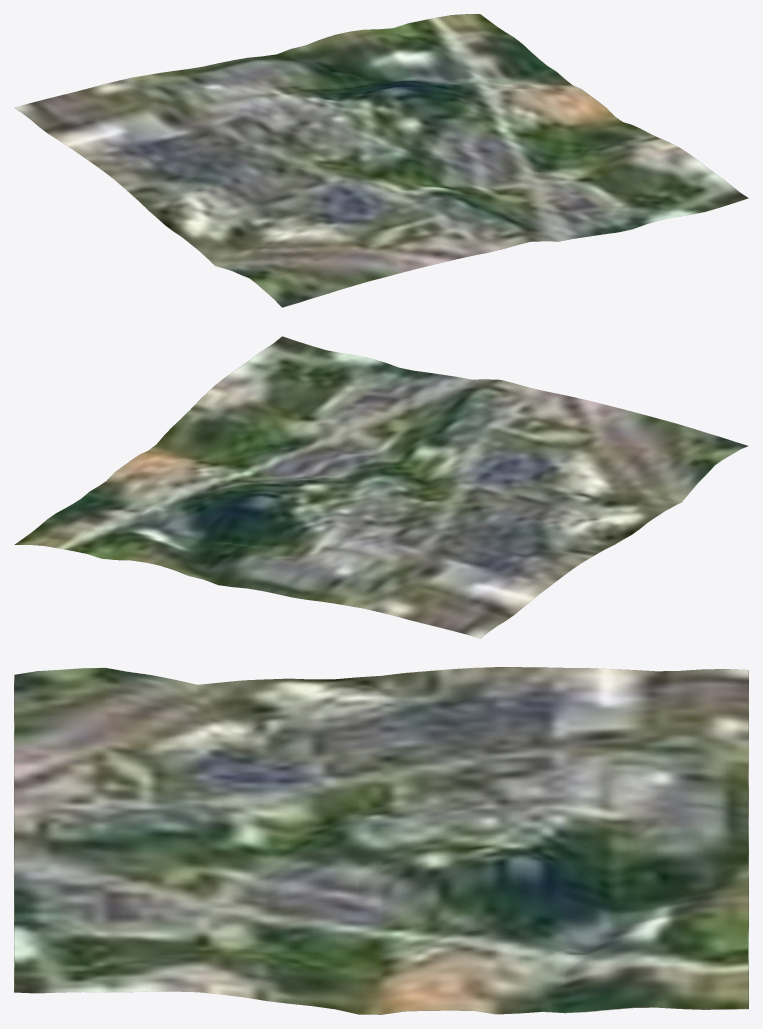
3 renders of one model, top to bottom at view 1: azimuth 30°, elevation 25°; view 2: azimuth 150°, elevation 25°; view 3: azimuth 270°, elevation 25°, orthographic. The views are drawn at different scales.
Bounding box in the file's own units: 975 × 59.09 × 971.
Materials: 1 (1 with a texture image).
